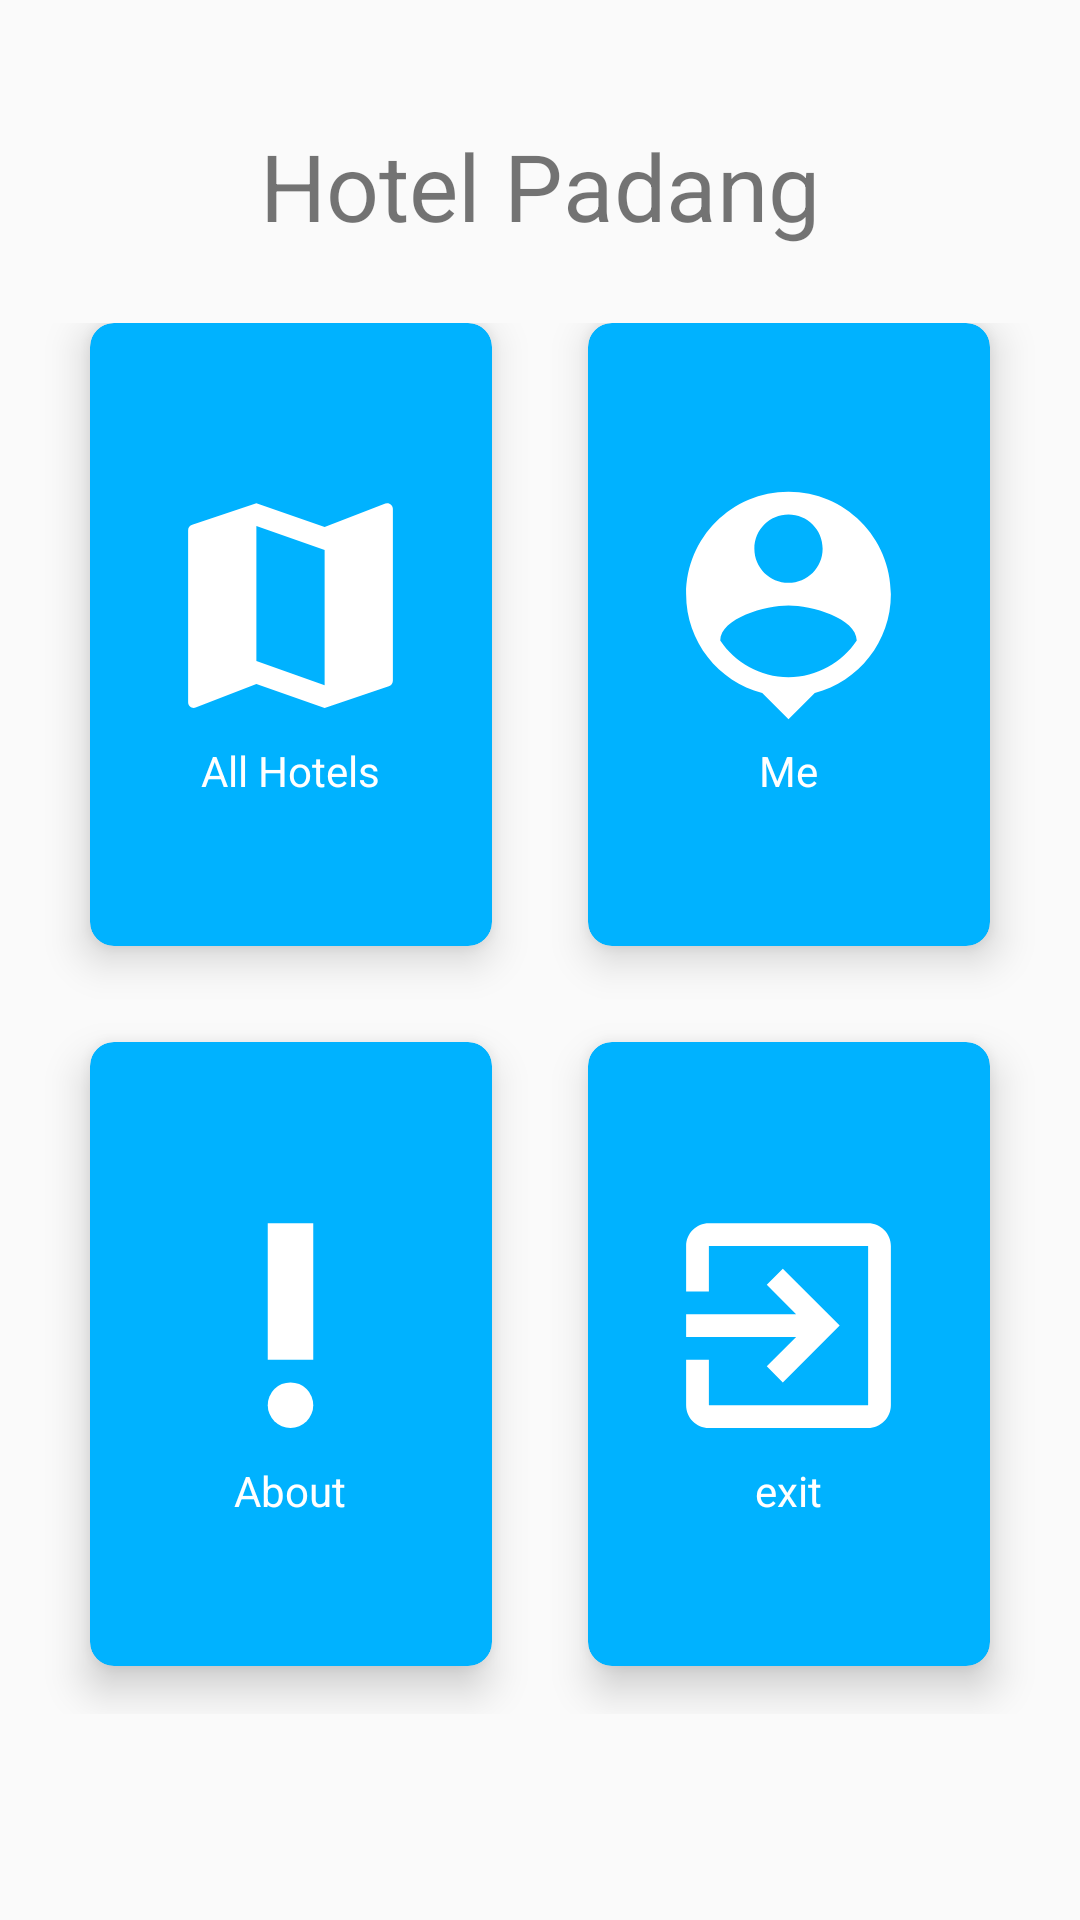

Named icons in this screenshot (1080×1920) and their centers, point (x, y):
map all: point (290, 605)
person: point (788, 605)
priority: point (290, 1325)
